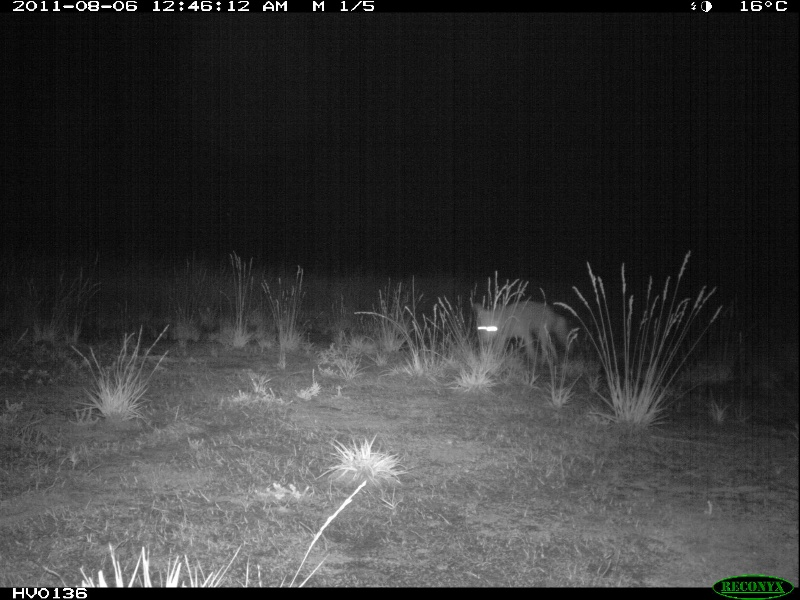fox: (462, 297, 578, 371)
